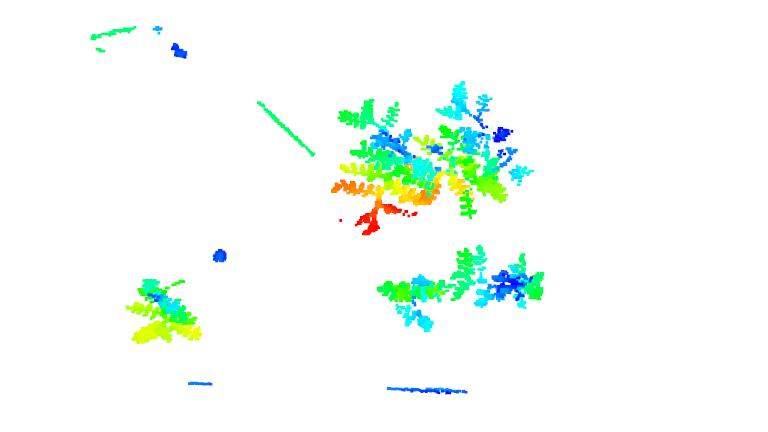chickpea: (412, 80, 534, 220), (331, 100, 444, 237), (448, 244, 546, 310), (127, 277, 203, 349), (378, 275, 449, 333)
